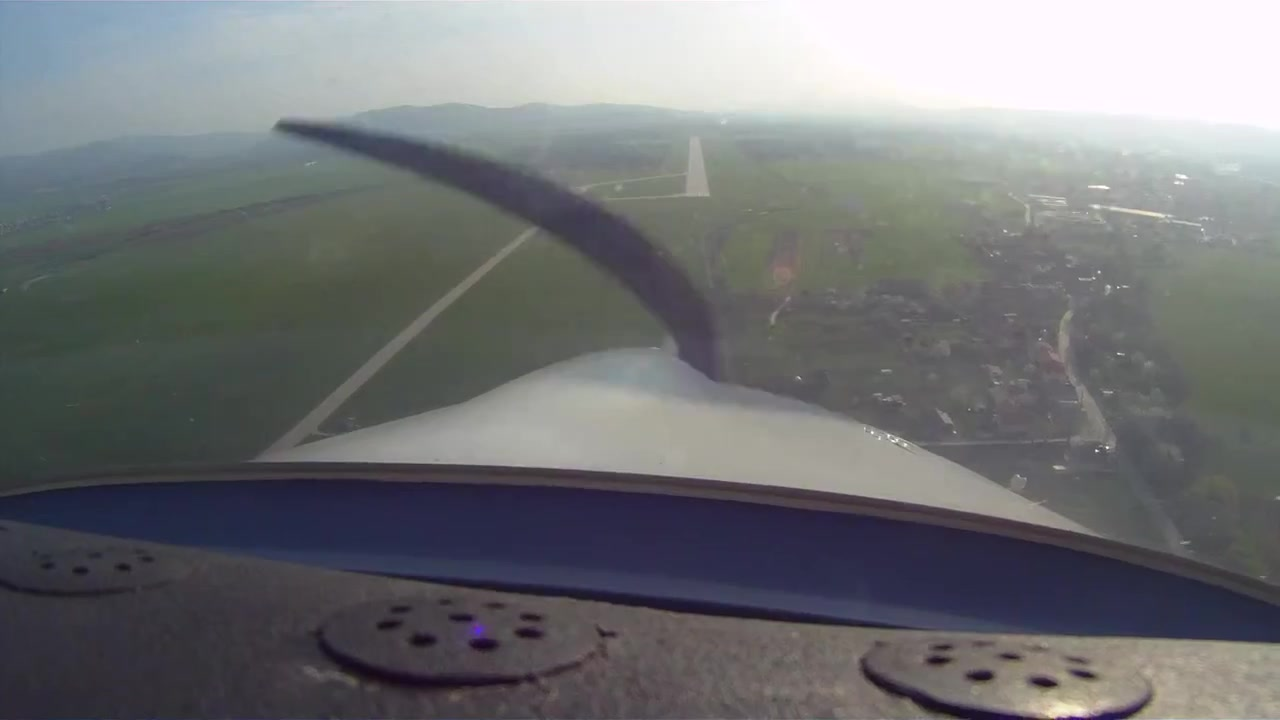runway: (682, 132, 714, 198)
